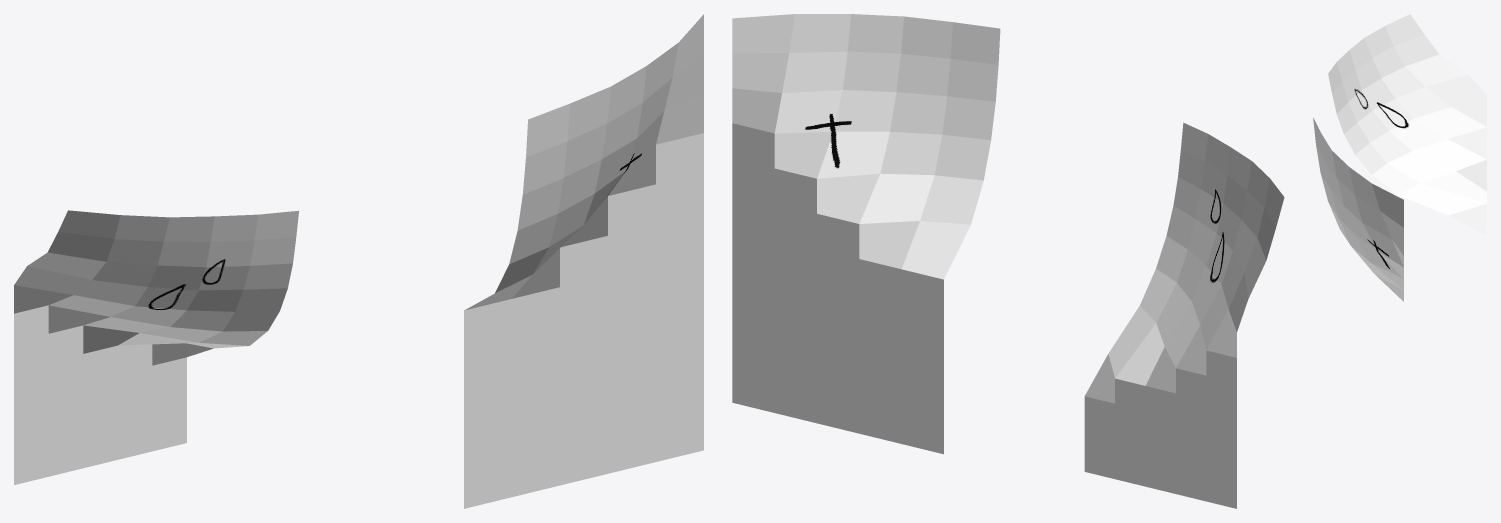
Rendered from Teardrop.glb.
3 renders of one model, left to right at view 1: azimuth 30°, elevation 25°; view 2: azimuth 150°, elevation 25°; view 3: azimuth 270°, elevation 25°, orthographic. The views are drawn at different scales.
Visible parts, largest first — view 1: Teardrop; view 2: Teardrop; view 3: Teardrop.
Boxes of the visible parts, x1,y1,x2,y2 form: Teardrop: [14, 14, 703, 508]; Teardrop: [732, 14, 1284, 508]; Teardrop: [1313, 14, 1486, 301].
Size of the model in its own units: 0.5983 by 0.3952 by 0.2015.
Materials: 1 (1 with a texture image).
